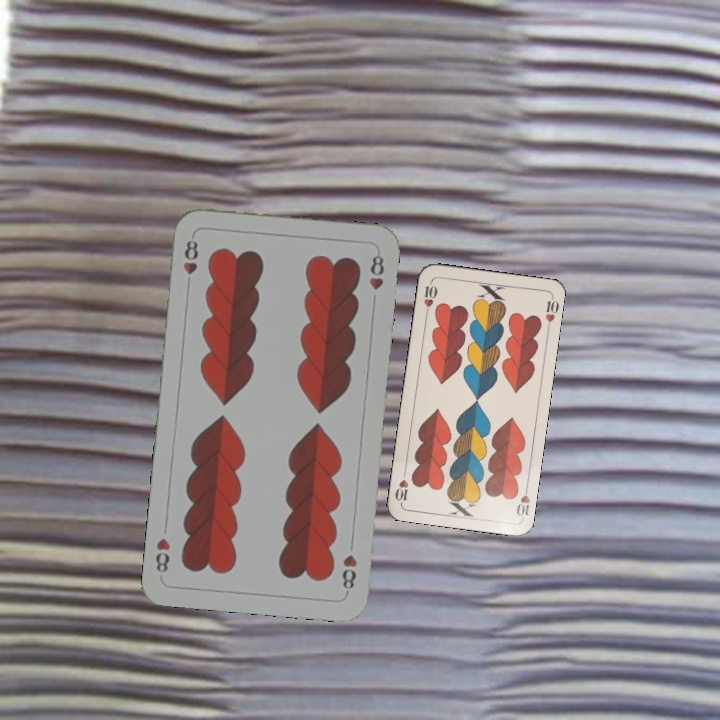H10: (420, 277, 439, 318), (512, 481, 532, 519)
H8: (179, 235, 201, 291), (338, 550, 360, 596)
